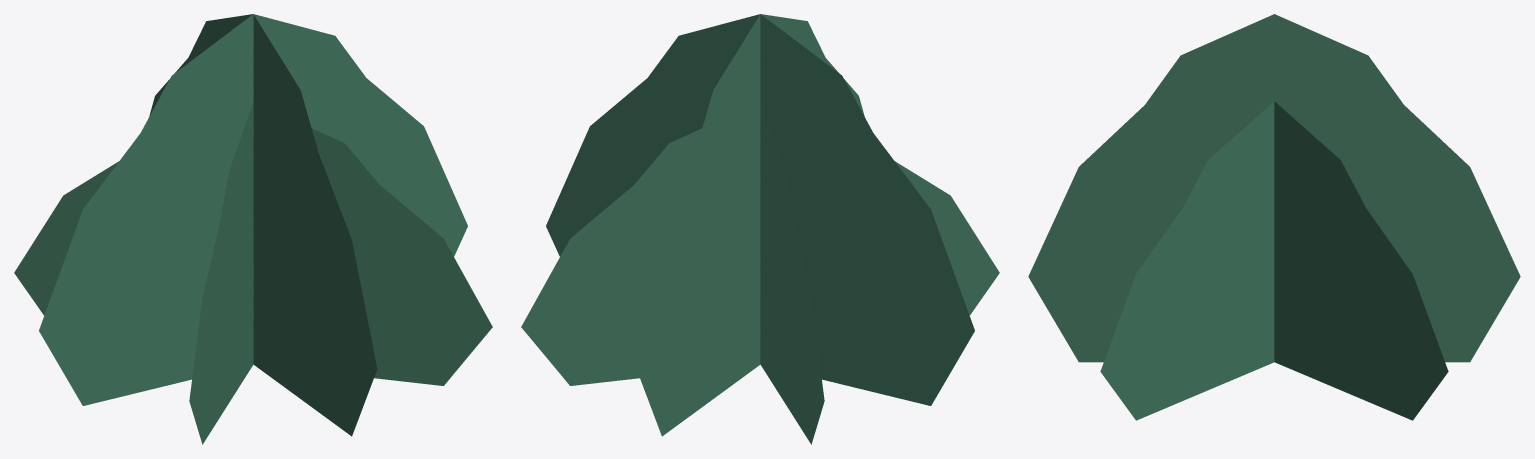
File: naturePack_flat_013.obj
3 views of the same model, side by side, from view 1: azimuth 30°, elevation 25°; view 2: azimuth 150°, elevation 25°; view 3: azimuth 270°, elevation 25° (orthographic).
Parts seen in each view (by area): view 1: Mesh1_Group1_Model.090; view 2: Mesh1_Group1_Model.090; view 3: Mesh1_Group1_Model.090.
Boxes of the visible parts, left/top/right/bottom form: Mesh1_Group1_Model.090: left=14, top=14, right=492, bottom=444; Mesh1_Group1_Model.090: left=521, top=14, right=999, bottom=444; Mesh1_Group1_Model.090: left=1028, top=14, right=1520, bottom=420.
Size of the model in its own units: 1.1 by 0.8604 by 1.1.
